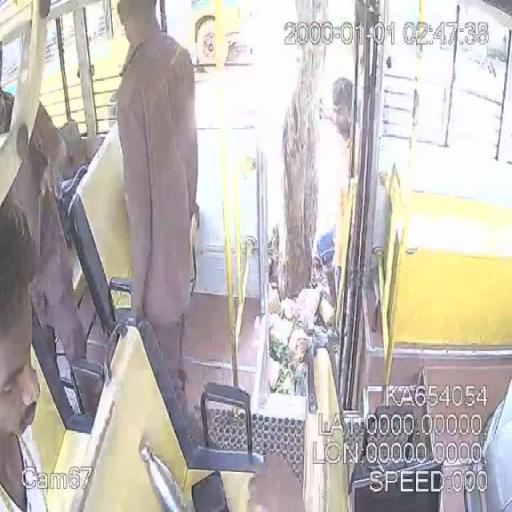persona: (112, 0, 201, 414), (0, 209, 50, 511), (319, 74, 353, 167)
